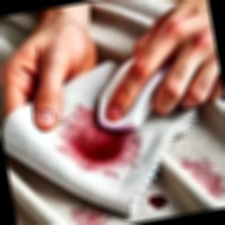wine: (60, 101, 145, 167), (181, 155, 220, 201), (70, 197, 115, 225), (147, 192, 171, 212)
